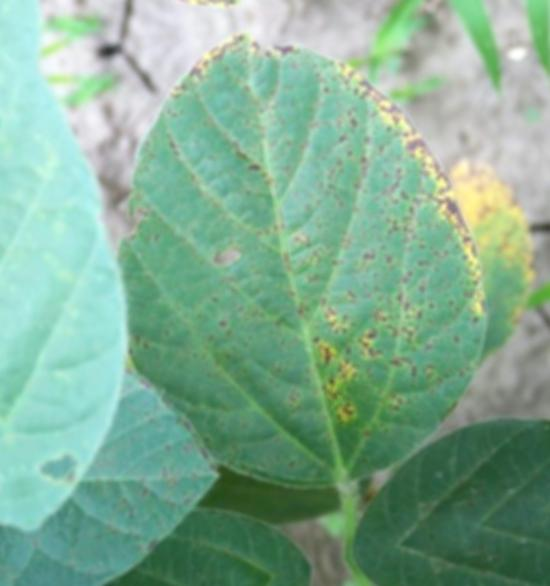Tomato Septoria leaf spot: (70, 0, 527, 530)
